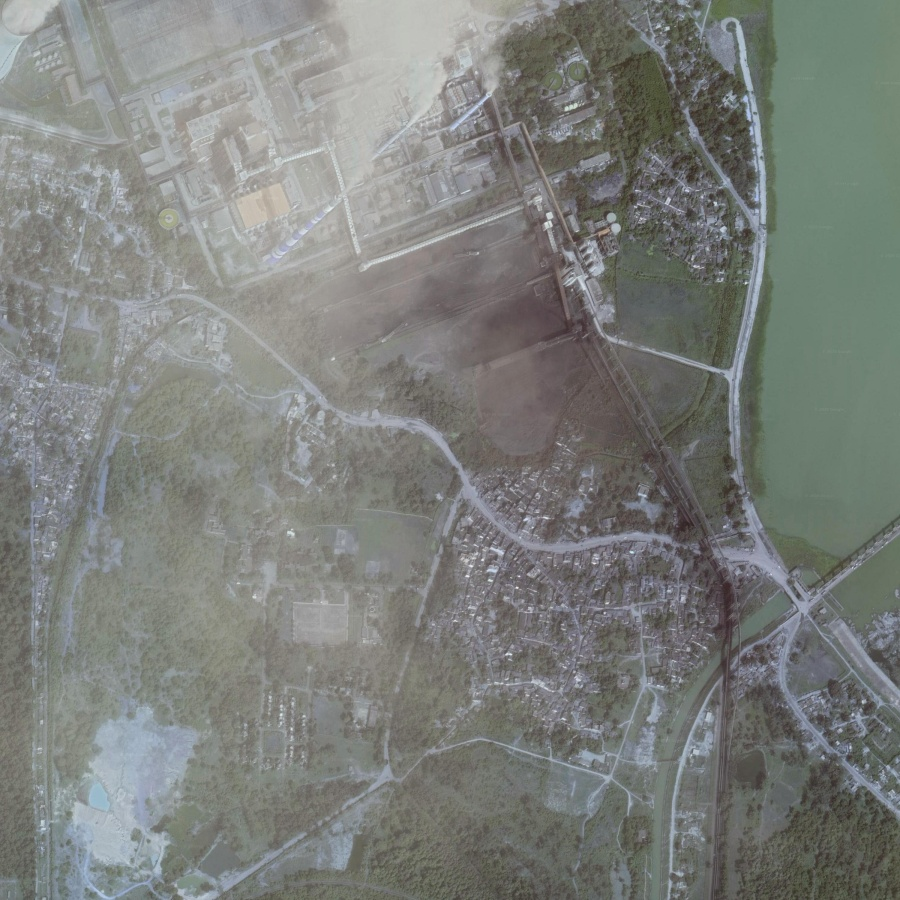PowerPlant: (229, 14, 519, 295)
